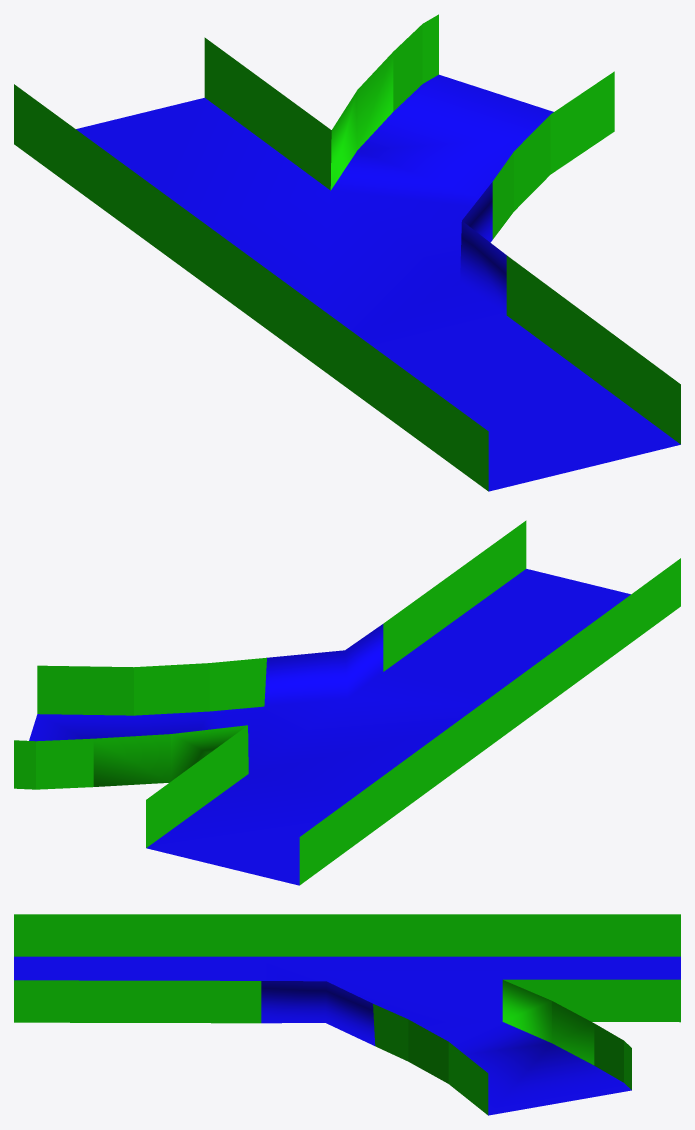
File: inter2Reparer5.fbx
3 views of the same model, one above another, from view 1: azimuth 30°, elevation 25°; view 2: azimuth 150°, elevation 25°; view 3: azimuth 270°, elevation 25° (orthographic). The views are drawn at different scales.
Parts seen in each view (by area): view 1: svgMesh1.002; view 2: svgMesh1.002; view 3: svgMesh1.002.
Boxes of the visible parts, bbox=[...] form: svgMesh1.002: bbox=[14, 14, 680, 491]; svgMesh1.002: bbox=[14, 520, 680, 885]; svgMesh1.002: bbox=[14, 914, 680, 1115].
Size of the model in its own units: 362 by 45.57 by 643.
